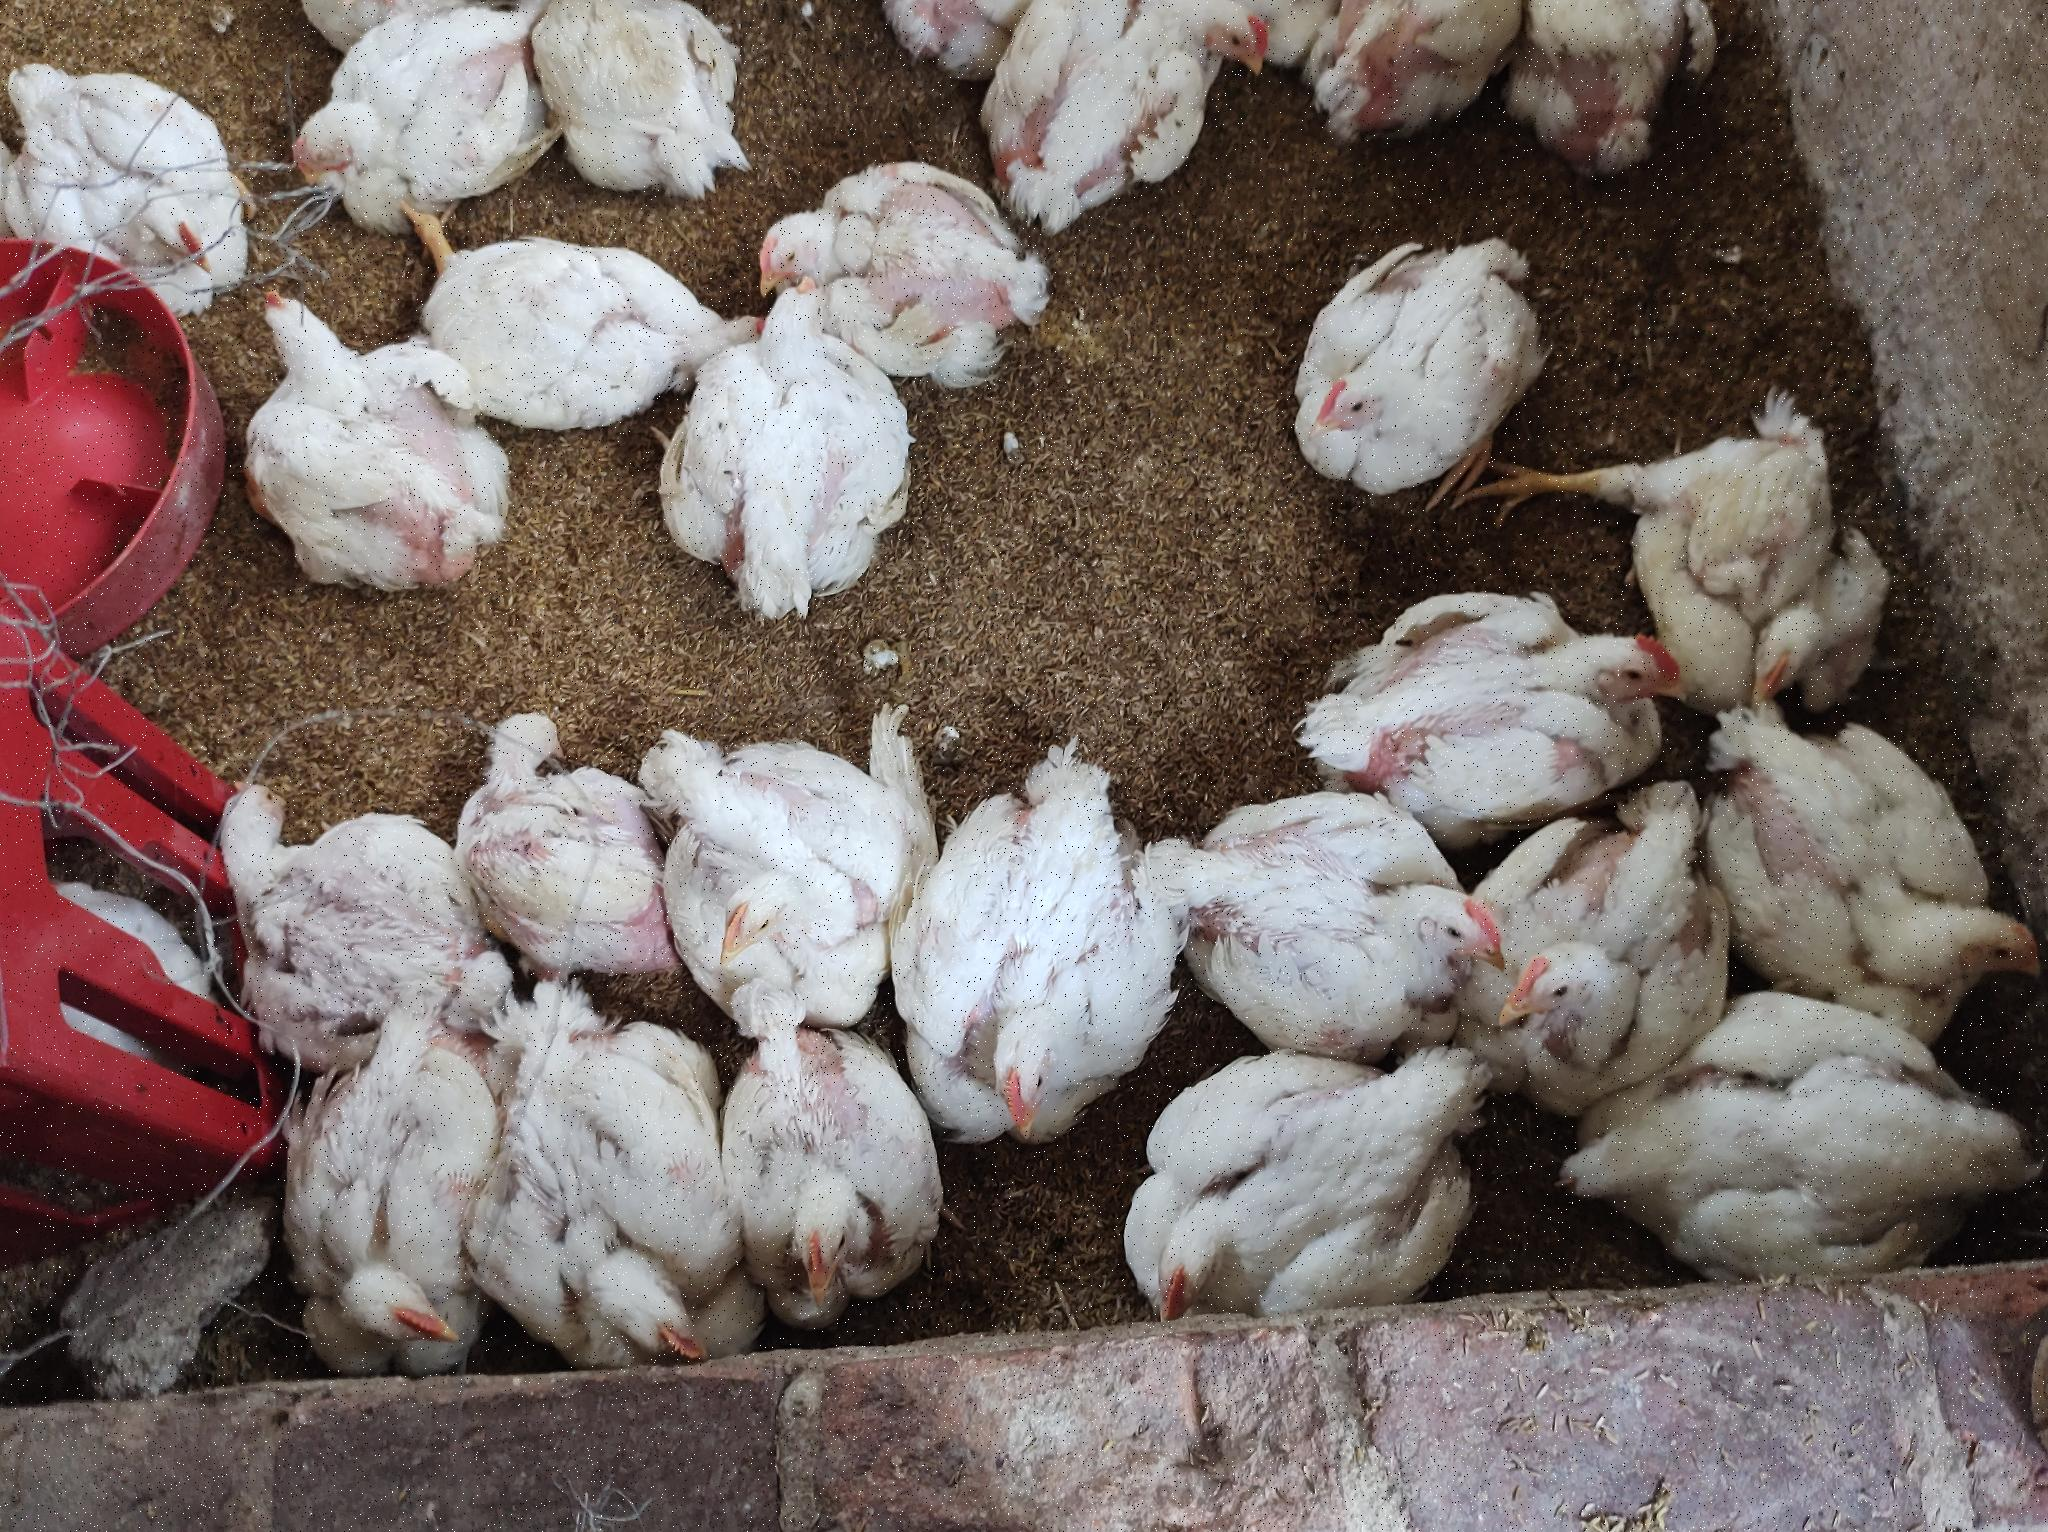Pollos: (1100, 1033, 1478, 1349), (920, 715, 1203, 1117), (1639, 1009, 2048, 1278), (225, 280, 528, 595), (1179, 777, 1504, 1056), (1747, 676, 2029, 991), (642, 697, 907, 1028), (275, 1030, 497, 1410), (1330, 549, 1663, 797), (484, 1020, 729, 1355), (1277, 240, 1549, 537), (1647, 391, 1905, 700), (182, 780, 487, 1036), (722, 1033, 968, 1328), (672, 340, 927, 623), (738, 166, 1055, 391), (397, 212, 726, 426), (1499, 832, 1757, 1102), (447, 703, 661, 1015), (2, 55, 259, 314), (286, 11, 550, 243), (988, 2, 1282, 188), (1525, 2, 1742, 209), (549, 2, 751, 200), (1287, 2, 1504, 171)
